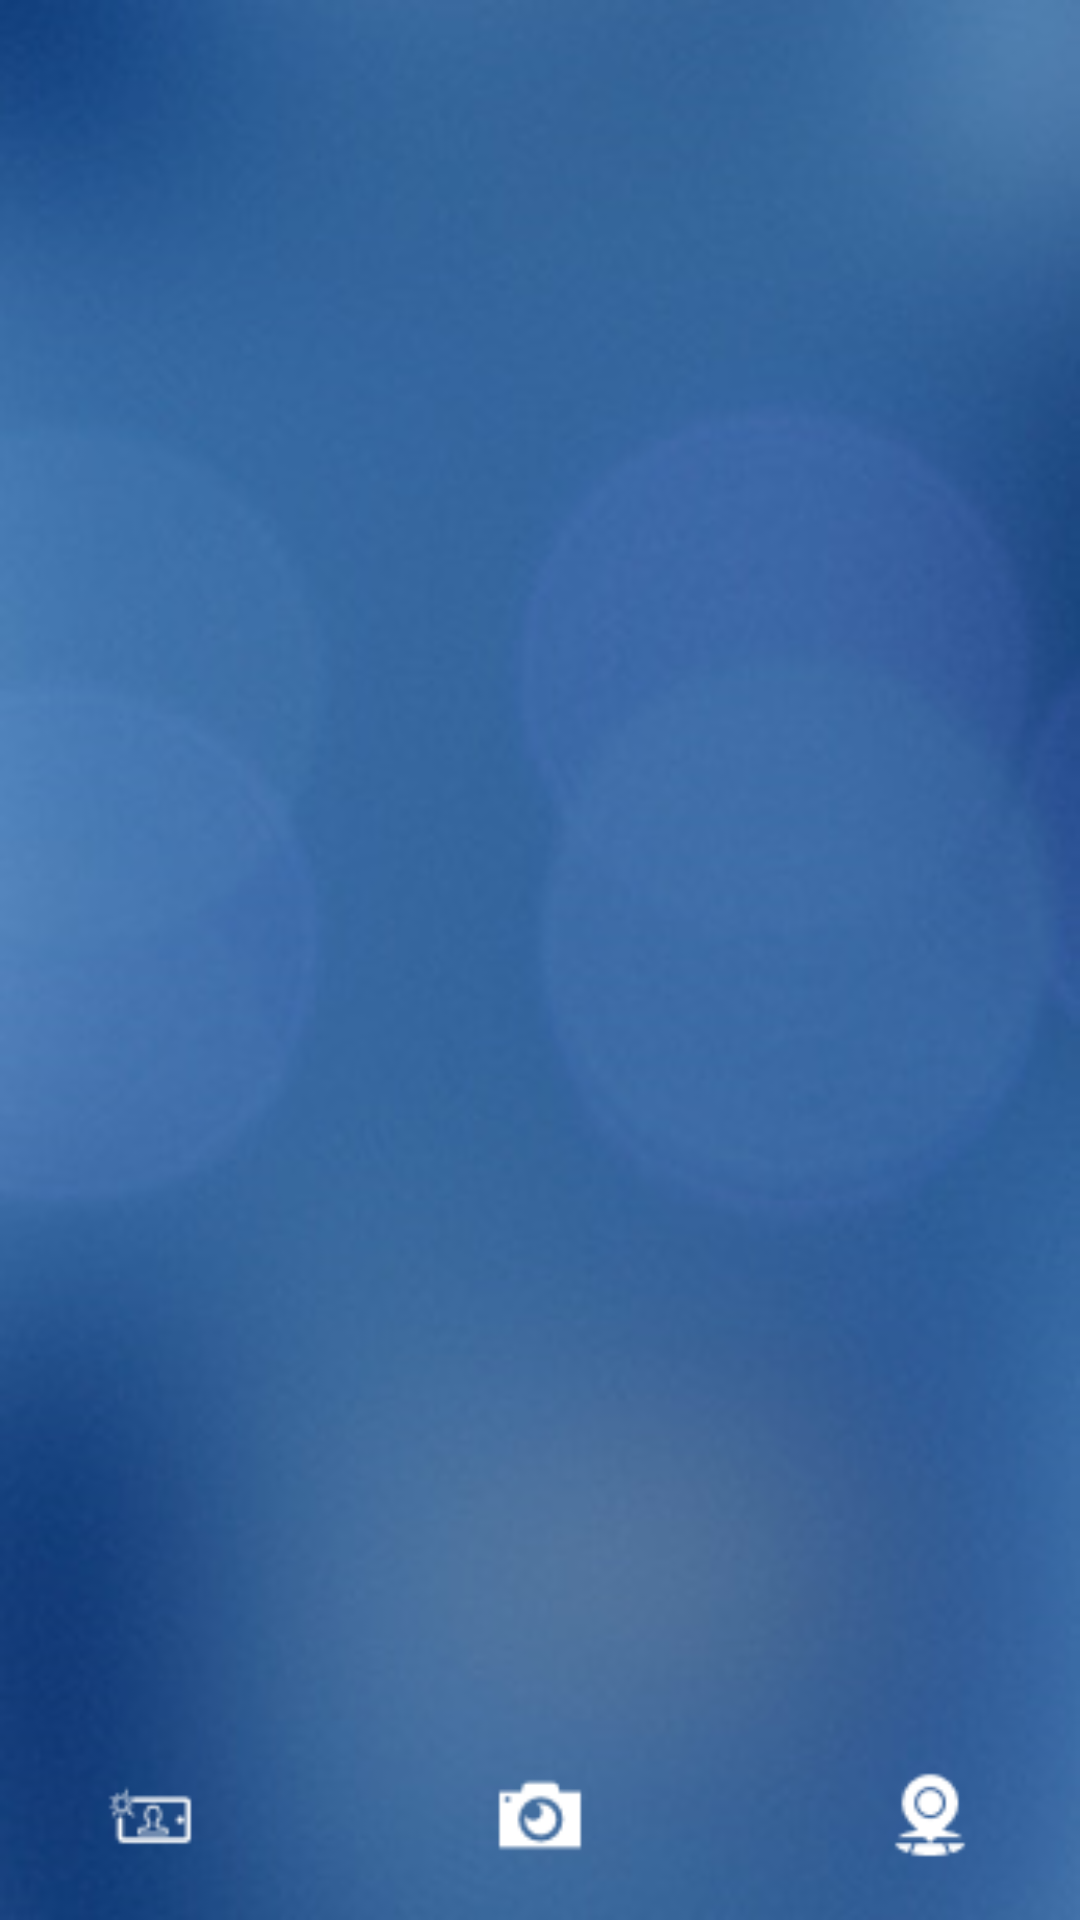

Icon bounding boxes for this 1080px x 1920px phone screenshot, format Rect(x1, y1, x2, y2):
camera: Rect(498, 1780, 582, 1850)
maps: Rect(895, 1773, 966, 1857)
